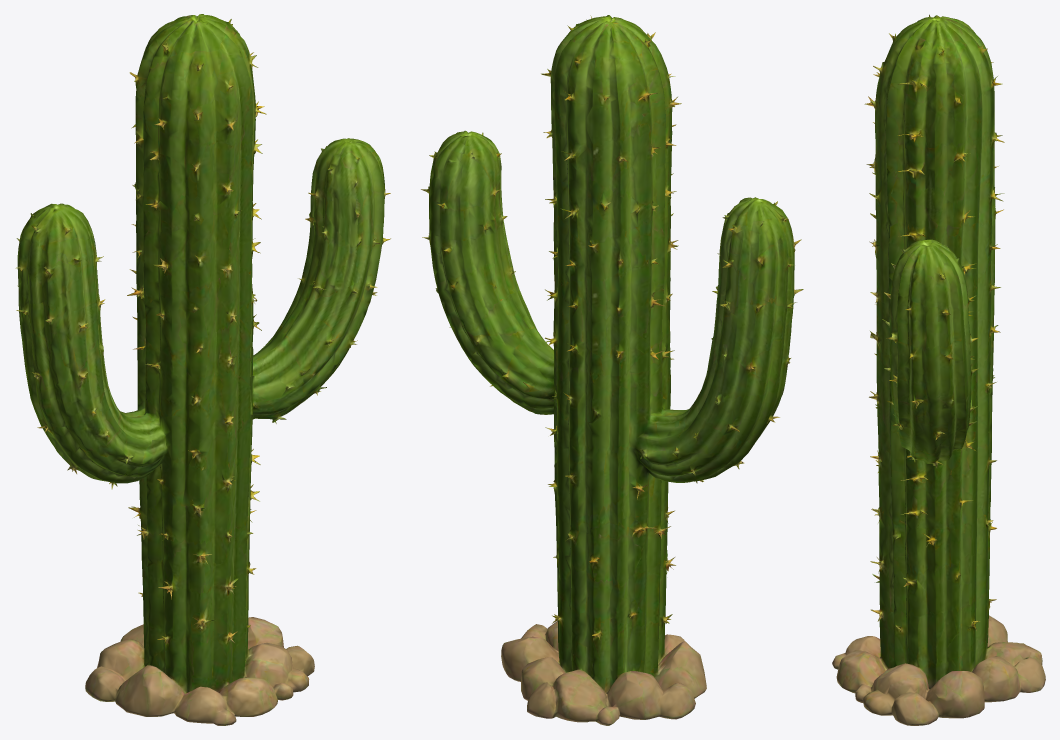
3 views of the same model, side by side, from view 1: azimuth 30°, elevation 25°; view 2: azimuth 150°, elevation 25°; view 3: azimuth 270°, elevation 25° (orthographic).
Bounding box in the file's own units: 1.09 × 1.9 × 0.5576.
Materials: 1 (1 with a texture image).
